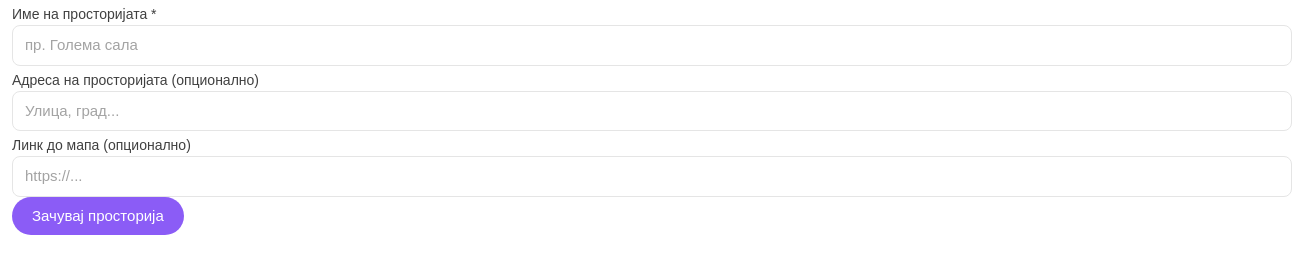
Test: AddRoomForm › shows the map-link error from the server
Type "Сала" into the field labelled "Име на просторијата *".
click(652, 45); type("Сала")  # box [12,25,1292,66]
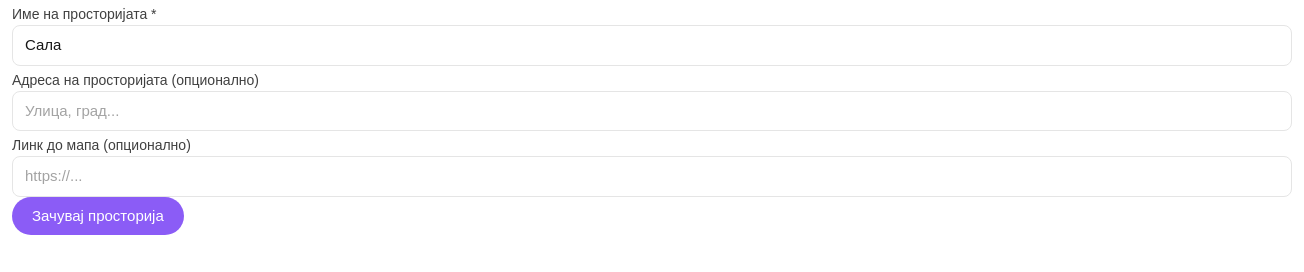
Click the button "Зачувај просторија".
click(98, 216)  # box [12,196,184,235]
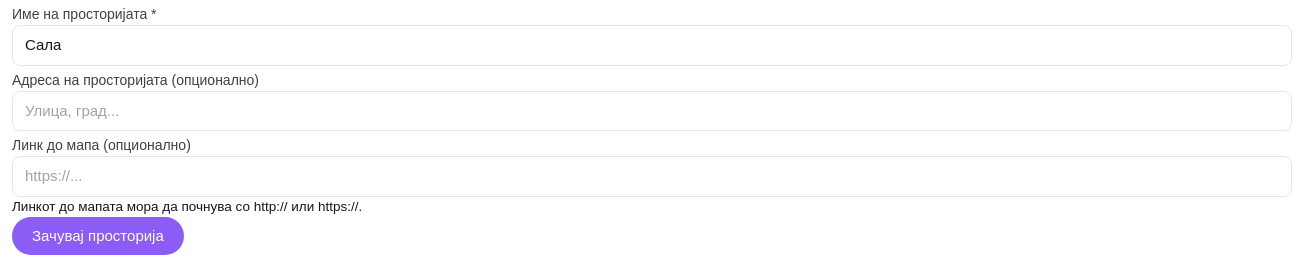
Check: the text "Линкот до мапата мора да почнува со http:// или https://." is shown, box [12,198,362,214]
